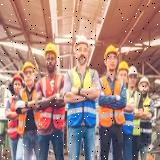Helmet: (104, 44, 118, 66), (74, 36, 90, 54), (44, 43, 58, 59), (138, 76, 151, 91), (22, 61, 36, 74), (118, 62, 130, 74), (11, 74, 23, 85), (128, 65, 138, 75)
Vest: (66, 65, 97, 127), (38, 73, 66, 131), (98, 73, 125, 127), (17, 85, 41, 135), (7, 96, 26, 140), (137, 95, 153, 145), (127, 88, 142, 137), (122, 89, 133, 135)
